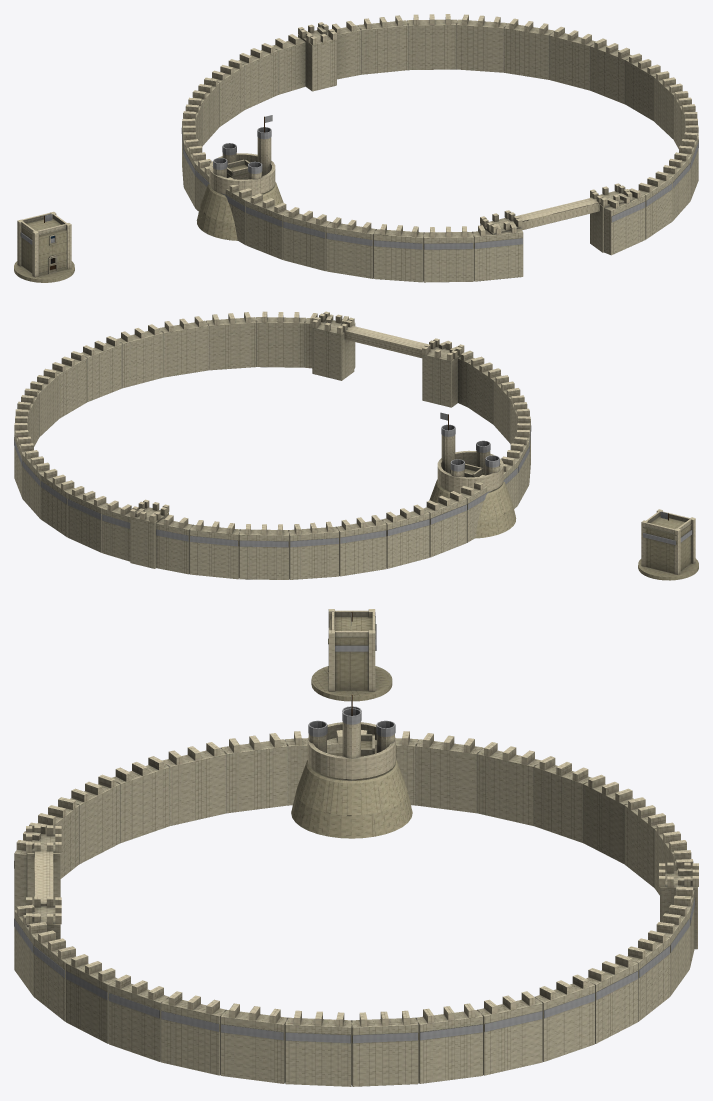
Rendered from shared-classical-israelite-8cd5ccc2.glb.
The picture shows the model from 3 angles, top to bottom: view 1: azimuth 30°, elevation 25°; view 2: azimuth 150°, elevation 25°; view 3: azimuth 270°, elevation 25°; orthographic projection. The views are drawn at different scales.
Visible parts, largest first — view 1: LOD0.002, LOD0.001, LOD0; view 2: LOD0.002, LOD0.001, LOD0; view 3: LOD0.002, LOD0.001, LOD0.
Boxes of the visible parts, x1,y1,x2,y2 form: LOD0.002: [181, 14, 698, 282]; LOD0.001: [196, 115, 283, 240]; LOD0: [14, 211, 74, 282]; LOD0.002: [14, 311, 531, 579]; LOD0.001: [429, 412, 516, 538]; LOD0: [638, 509, 698, 580]; LOD0.002: [14, 730, 698, 1086]; LOD0.001: [291, 694, 412, 838]; LOD0: [311, 609, 392, 701].
Size of what is drawn, in the model's own units: 9.8 by 1.44 by 6.76.
Materials: 2 (2 with a texture image).
